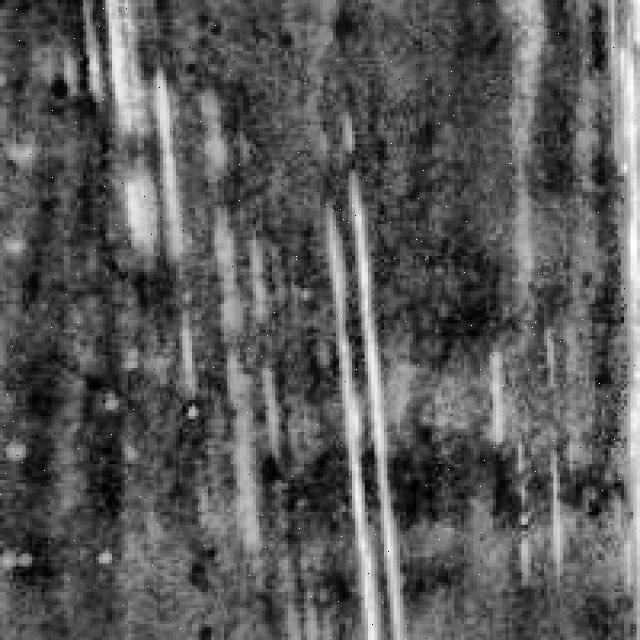Inclusion: (324, 102, 406, 637)
